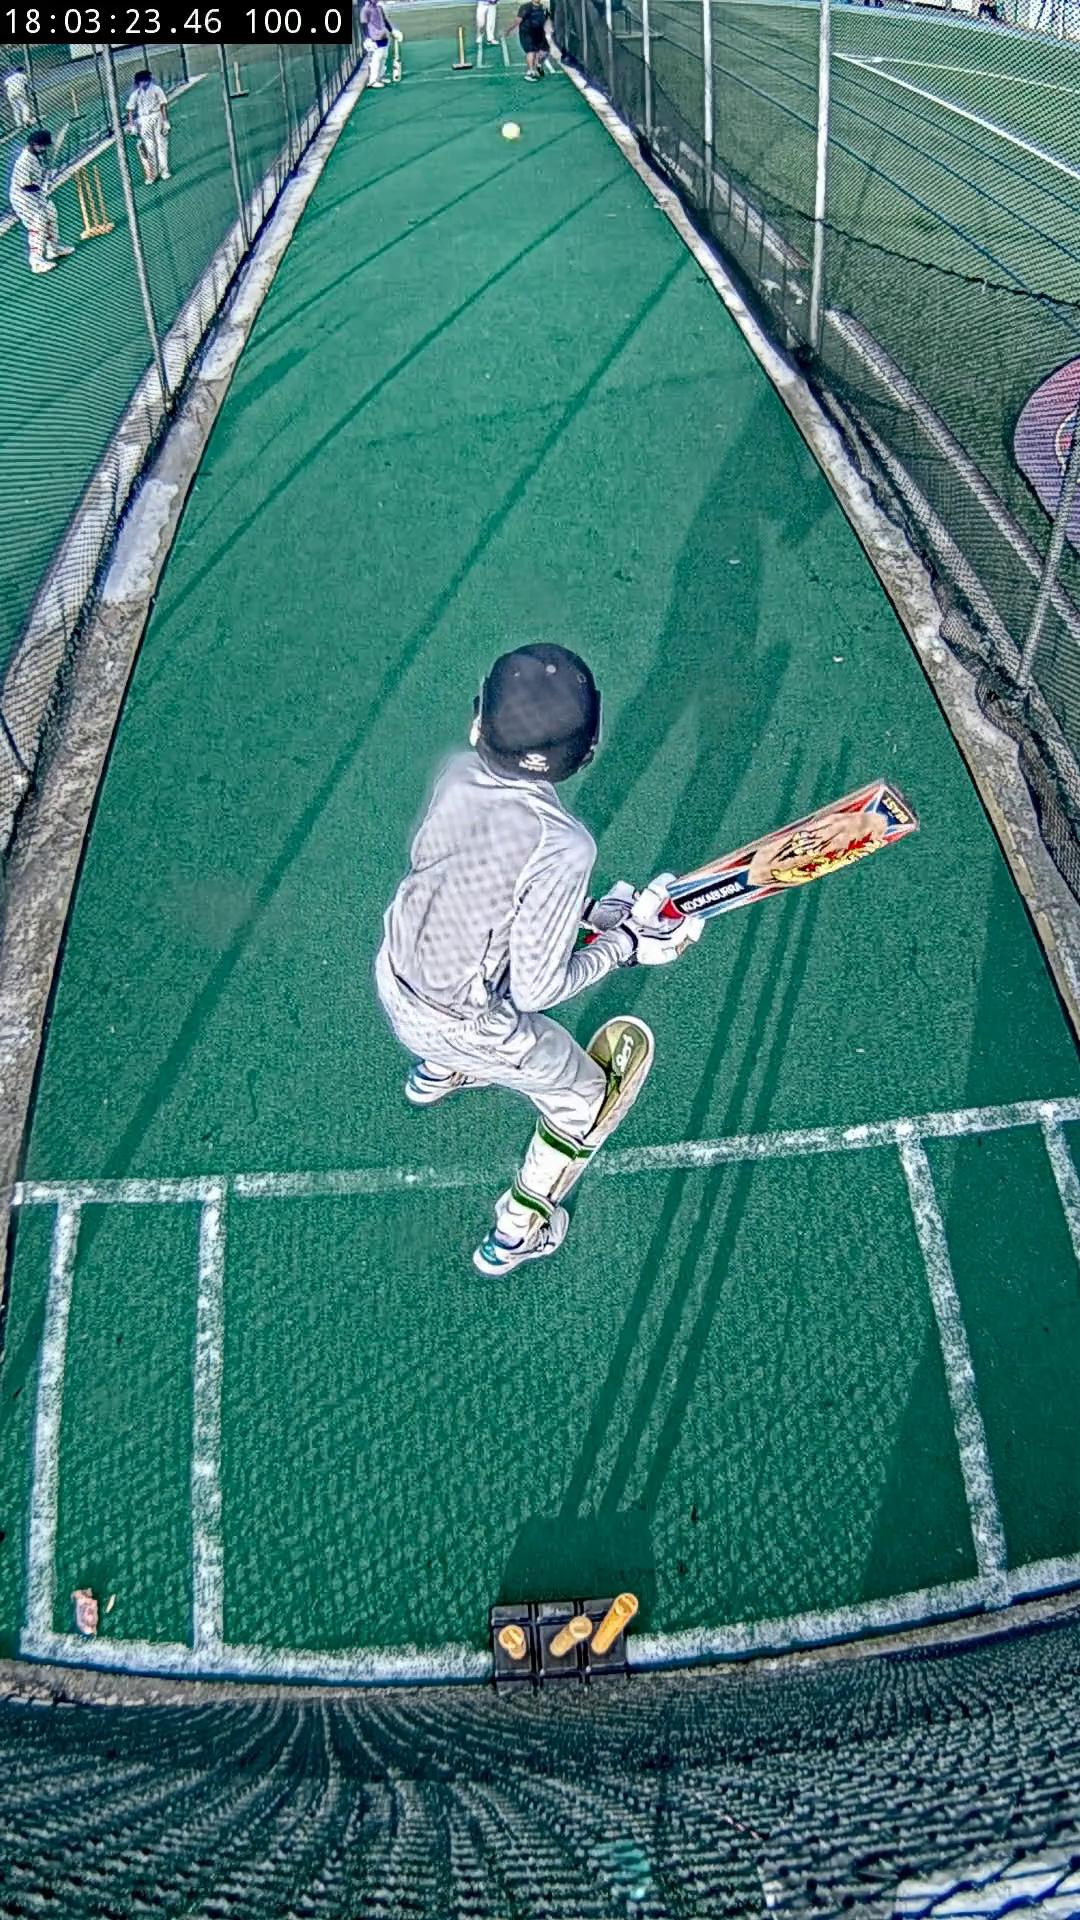ball: (502, 124, 521, 138)
bat: (663, 781, 919, 919)
gloves: (585, 874, 705, 964)
helmet: (480, 641, 600, 783)
pads: (551, 1017, 657, 1200)
stumps: (492, 1594, 637, 1688)
